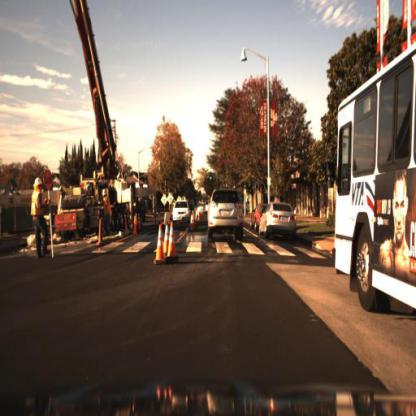car: (259, 195, 300, 248), (209, 187, 247, 240), (260, 200, 298, 239), (174, 198, 195, 228), (250, 204, 266, 232), (250, 204, 260, 235)
pedestrian: (31, 167, 58, 264), (97, 184, 115, 246), (102, 190, 114, 242)
trafficLight: (206, 167, 214, 187)
truck: (2, 6, 148, 237), (55, 176, 138, 246)
